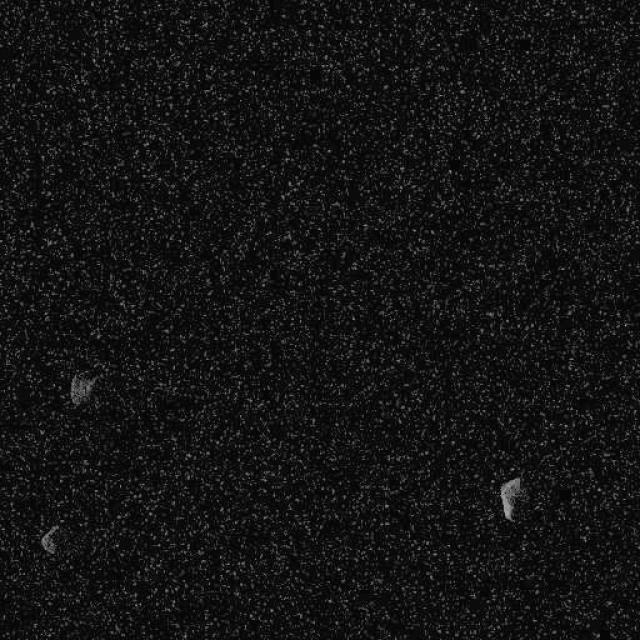D2: (69, 368, 100, 407), (498, 475, 522, 521), (39, 523, 60, 555)
